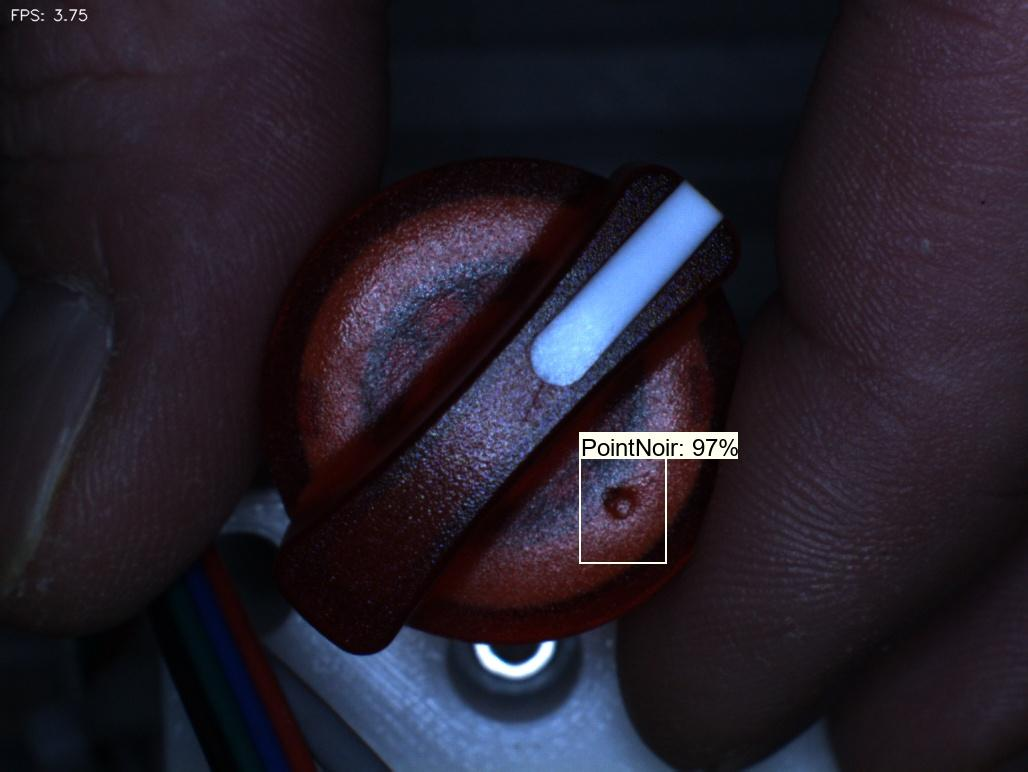Choc: (578, 464, 660, 555)
